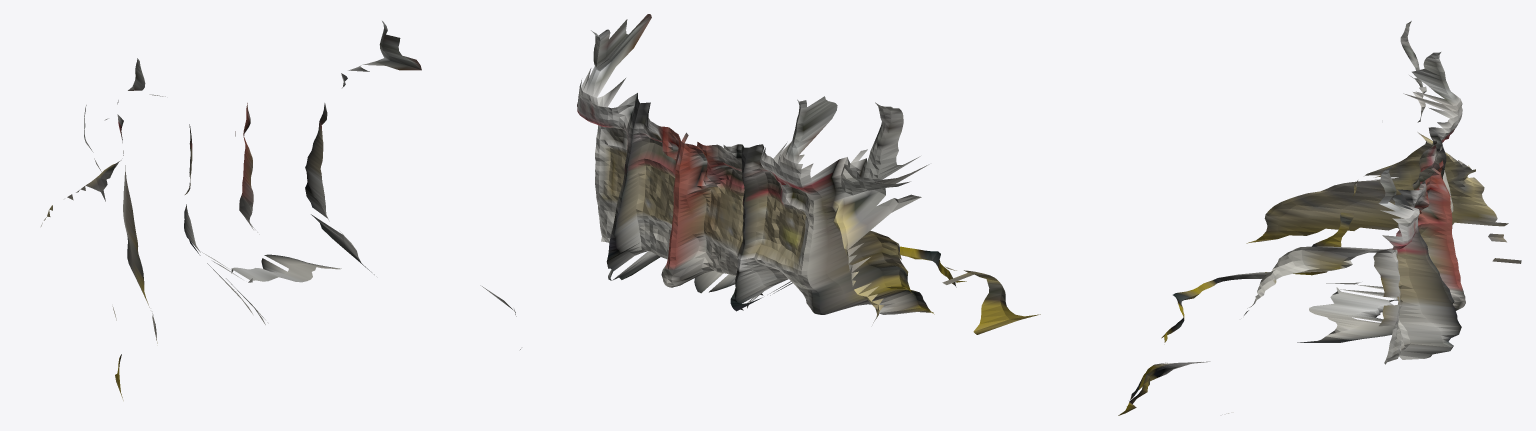
Rendered from cart-observed.glb.
3 views of the same model, side by side, from view 1: azimuth 30°, elevation 25°; view 2: azimuth 150°, elevation 25°; view 3: azimuth 270°, elevation 25° (orthographic). The views are drawn at different scales.
Parts seen in each view (by area): view 1: geometry_0; view 2: geometry_0; view 3: geometry_0.
Boxes of the visible parts, <box> form: geometry_0: <box>41,21,520,400</box>; geometry_0: <box>577,14,1040,334</box>; geometry_0: <box>1118,21,1521,415</box>.
Bounding box in the file's own units: 2.91 × 1.79 × 2.77.
